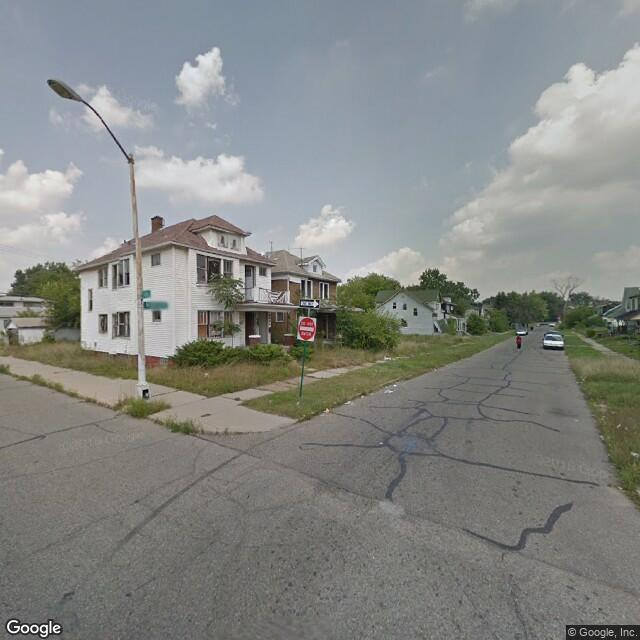litter: (379, 388, 402, 397), (599, 430, 607, 448), (265, 395, 276, 407), (624, 450, 640, 458), (321, 408, 333, 416), (341, 400, 354, 407), (428, 367, 443, 373), (616, 423, 628, 430), (293, 399, 302, 408)
